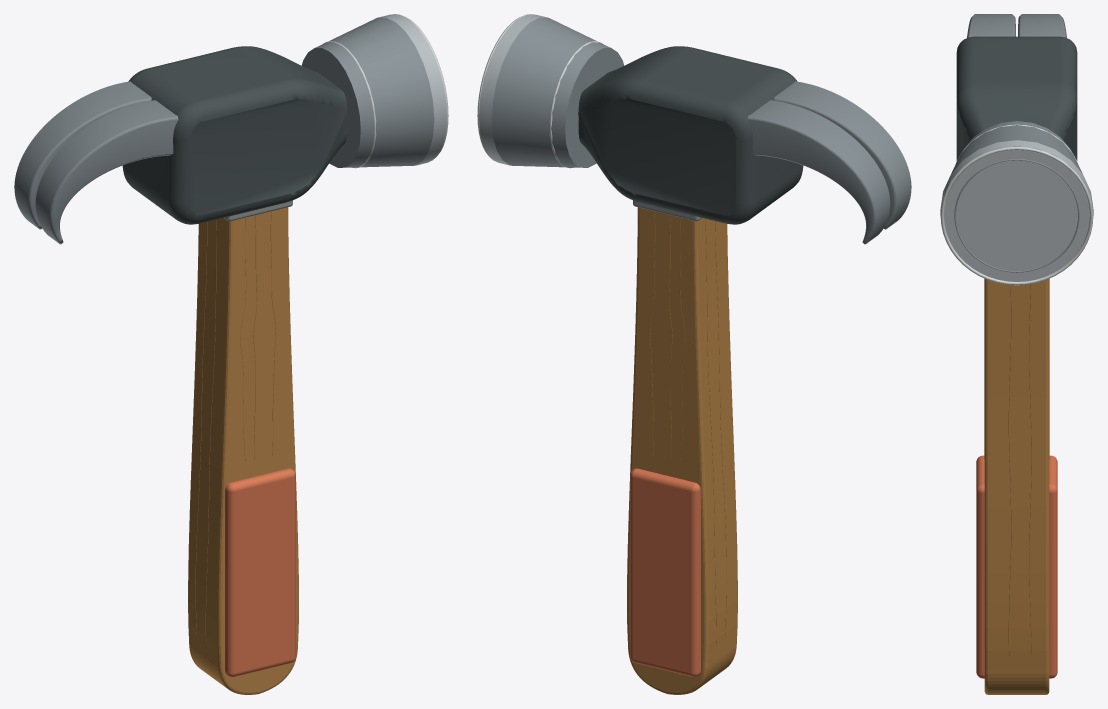
File: workshop-hammer-smaller-steel.glb
The picture shows the model from 3 angles, left to right: view 1: azimuth 30°, elevation 25°; view 2: azimuth 150°, elevation 25°; view 3: azimuth 270°, elevation 25°; orthographic projection.
Visible parts, largest first — view 1: Wood_Handle, steelInset, Grip_Front, steel, Claw_Back, Claw_Front, steelEdge; view 2: Wood_Handle, steelInset, Grip_Back, steel, Claw_Front, Claw_Back, steelEdge; view 3: Wood_Handle, steelEdge, steelInset, steel, Grip_Front, Grip_Back, Polished_Striking_Rim, Claw_Front, Claw_Back, Machined_Face_Groove, Side_Wood_Right_5, Side_Wood_Right_2.
Part boxes in pixels (x1,y1,x2,y2): Wood_Handle: [188, 207, 298, 694]; steelInset: [122, 46, 347, 224]; Grip_Front: [225, 468, 295, 677]; steel: [301, 17, 434, 167]; Claw_Back: [35, 100, 178, 244]; Claw_Front: [14, 81, 151, 229]; steelEdge: [378, 14, 446, 165]; Wood_Handle: [627, 207, 737, 694]; steelInset: [578, 46, 803, 224]; Grip_Back: [630, 468, 700, 677]; steel: [491, 17, 624, 167]; Claw_Front: [747, 100, 890, 244]; Claw_Back: [774, 81, 911, 229]; steelEdge: [479, 14, 547, 165]; Wood_Handle: [984, 279, 1049, 694]; steelEdge: [940, 140, 1093, 281]; steelInset: [956, 36, 1077, 160]; steel: [951, 121, 1082, 173]; Grip_Front: [976, 455, 984, 678]; Grip_Back: [1049, 455, 1057, 678]; Polished_Striking_Rim: [940, 146, 1093, 285]; Claw_Front: [1018, 14, 1066, 37]; Claw_Back: [967, 14, 1015, 37]; Machined_Face_Groove: [954, 159, 1079, 272]; Side_Wood_Right_5: [1008, 285, 1011, 655]; Side_Wood_Right_2: [1029, 284, 1031, 655].
Size of the model in its own units: 0.2584 by 0.4061 by 0.0902.
